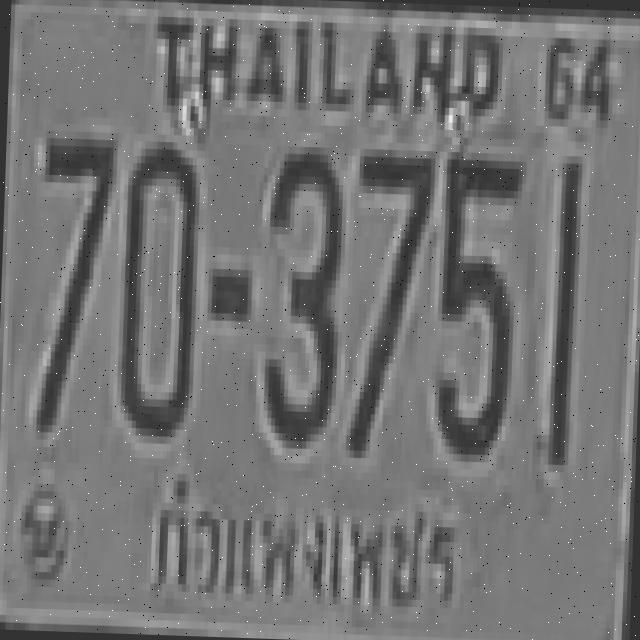0: (116, 133, 198, 430)
1: (544, 156, 578, 458)
3: (258, 138, 340, 442)
5: (433, 144, 519, 456)
7: (346, 142, 432, 452), (32, 130, 114, 427)
KamphaengPhet: (138, 456, 470, 624)
